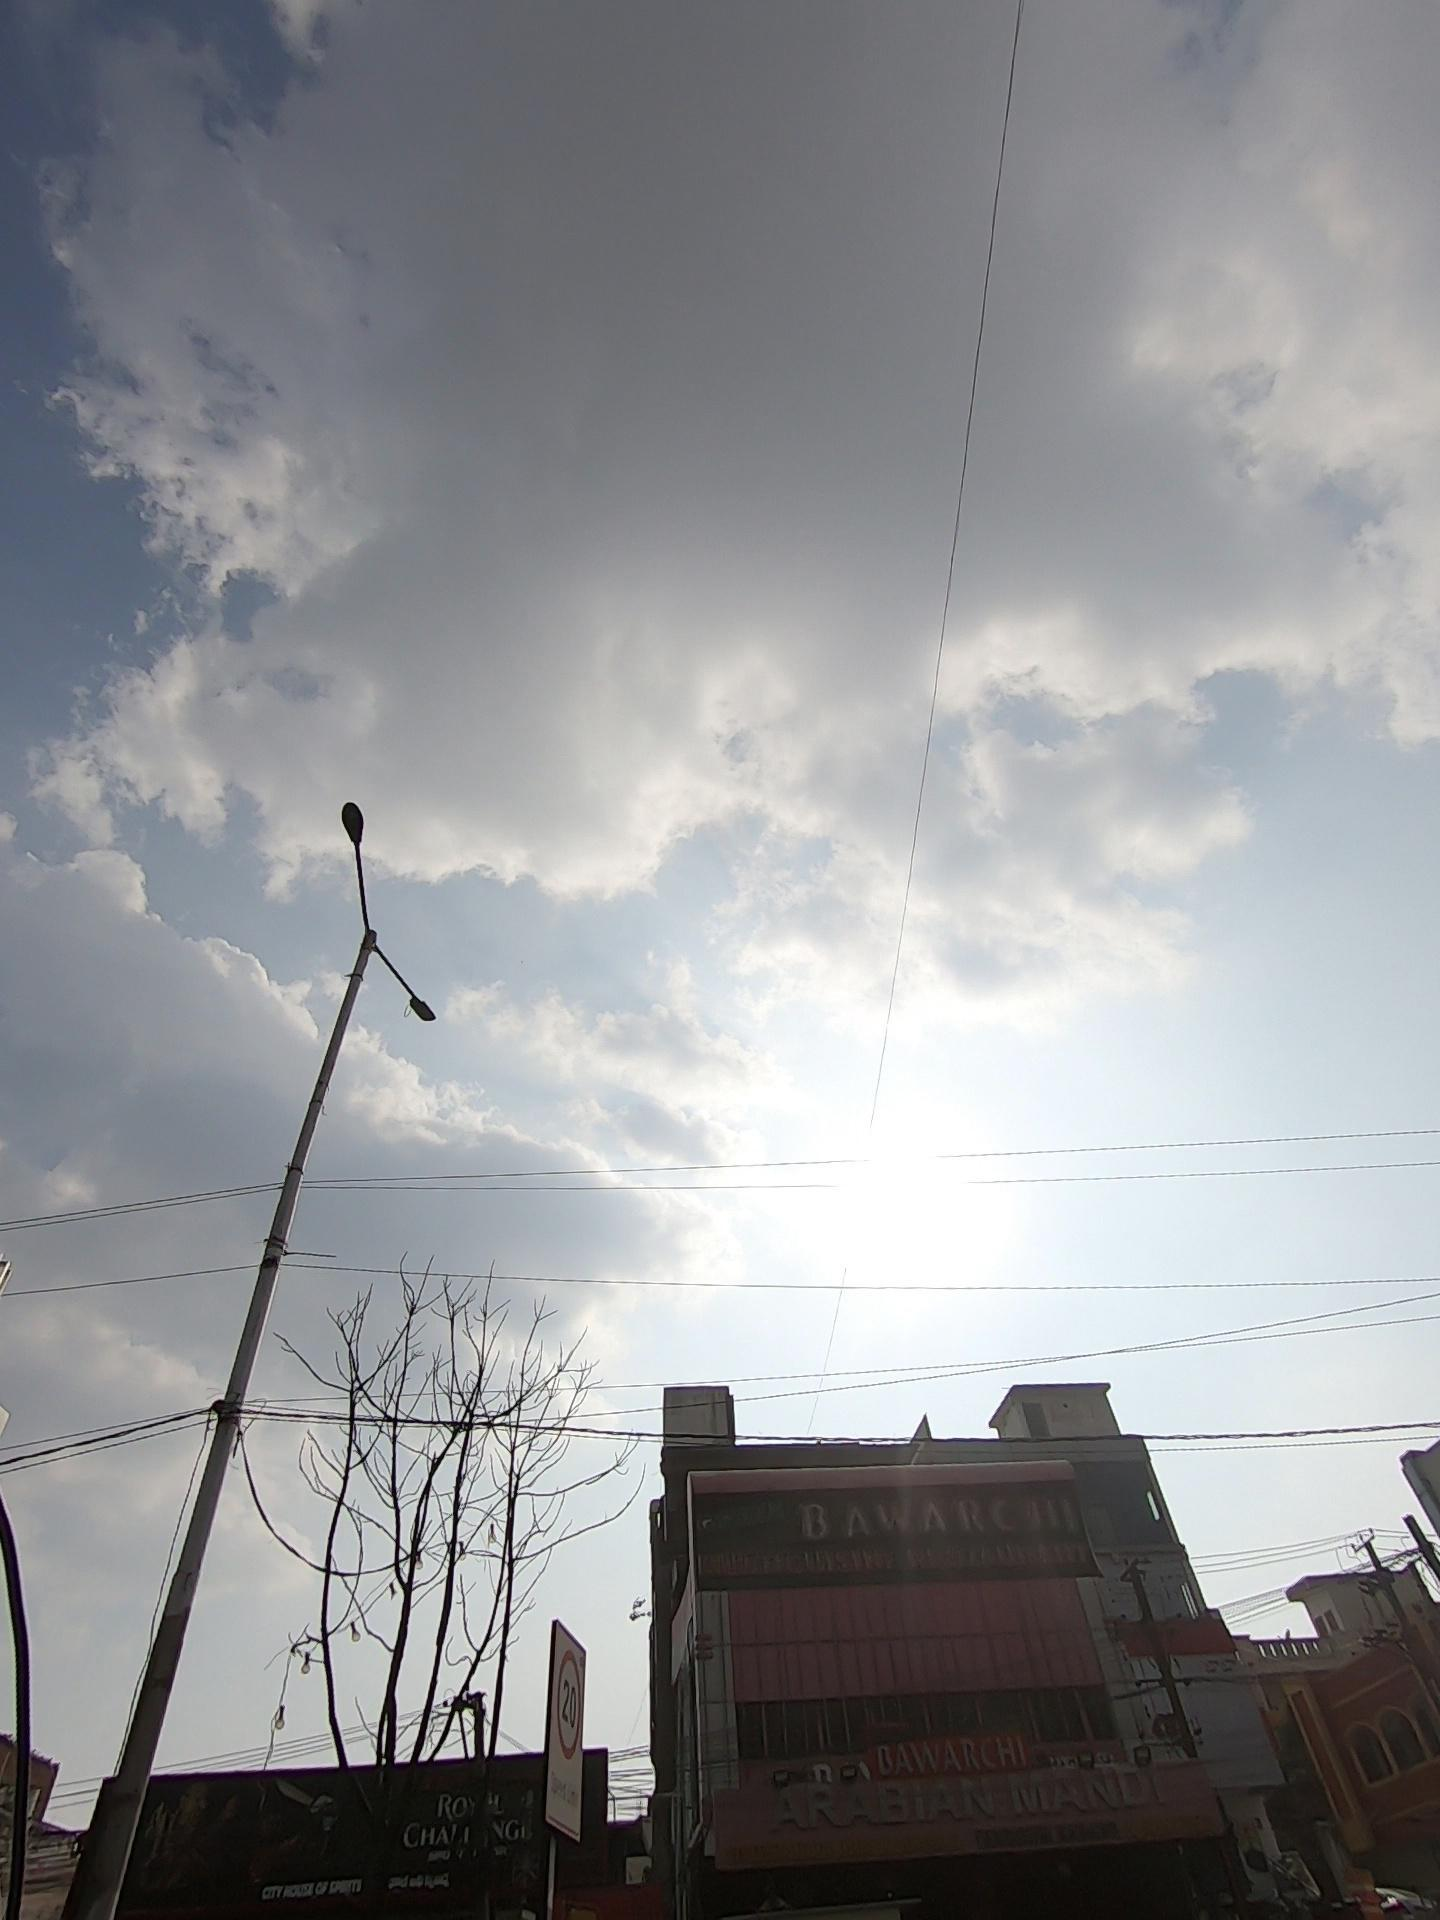off: (306, 736, 528, 1135)
